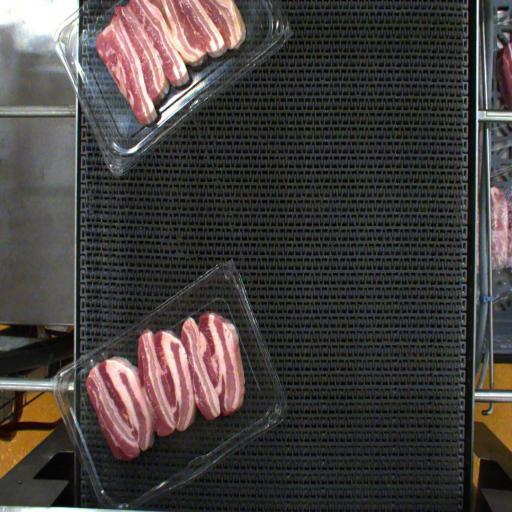packaging-error: (82, 347, 120, 376)
